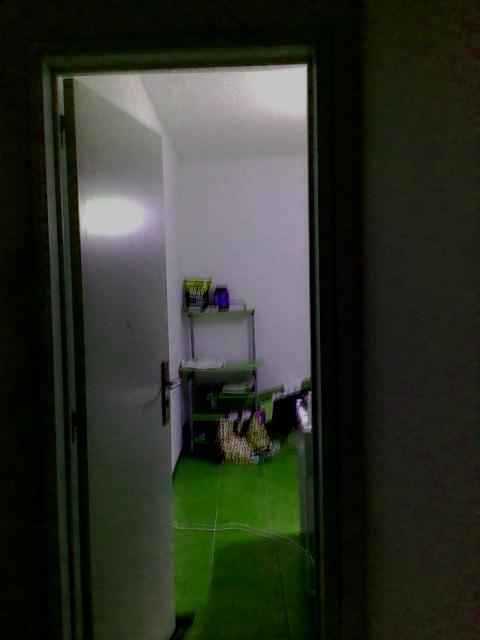open_door: (30, 23, 332, 638)
